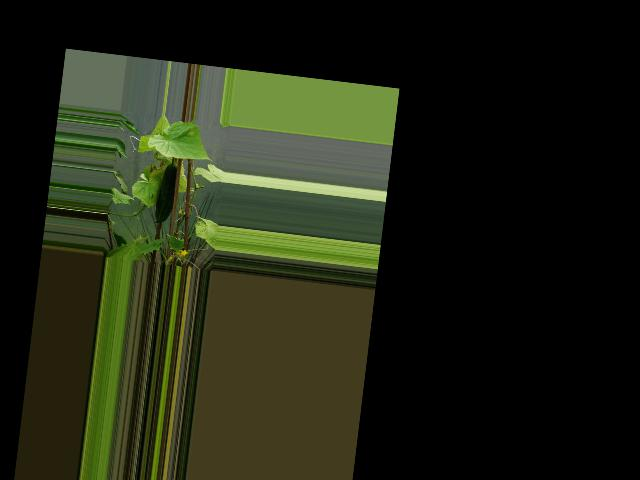cucumber: (153, 162, 178, 224)
